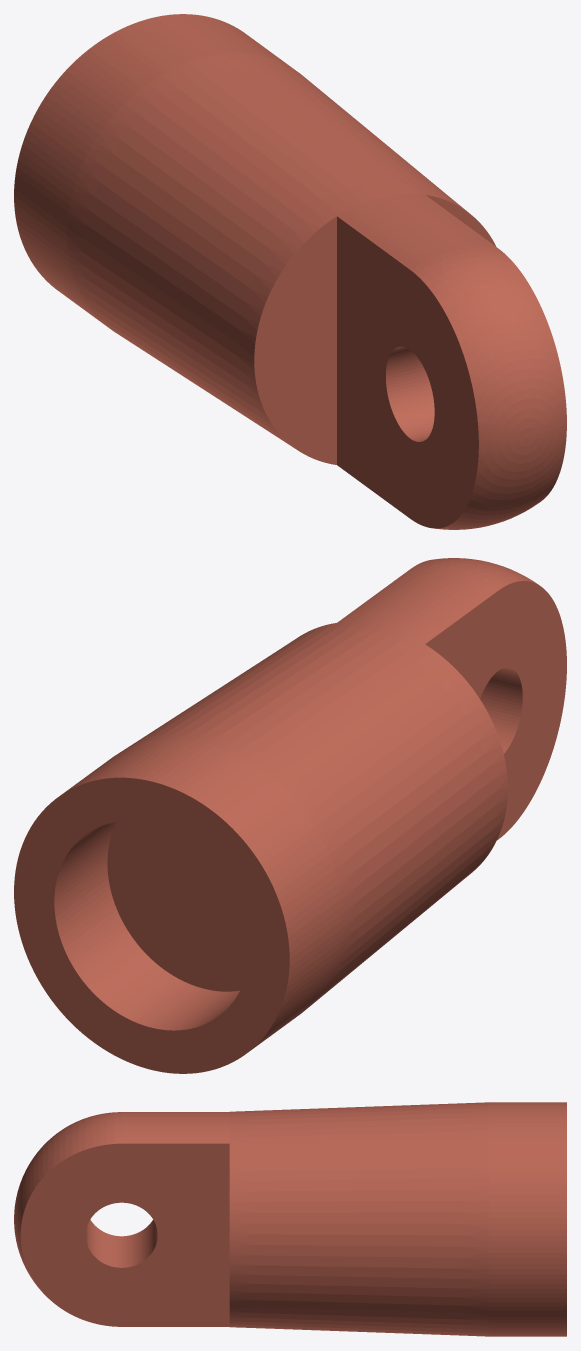
3 renders of one model, top to bottom at view 1: azimuth 30°, elevation 25°; view 2: azimuth 150°, elevation 25°; view 3: azimuth 270°, elevation 25°, orthographic. The views are drawn at different scales.
Parts seen in each view (by area): view 1: node; view 2: node; view 3: node.
Part boxes in pixels (x1,y1,x2,y2): node: [14, 14, 566, 529]; node: [14, 558, 566, 1073]; node: [14, 1102, 566, 1336].
Bounding box in the file's own units: 0.0904 × 0.0903 × 0.2132.
